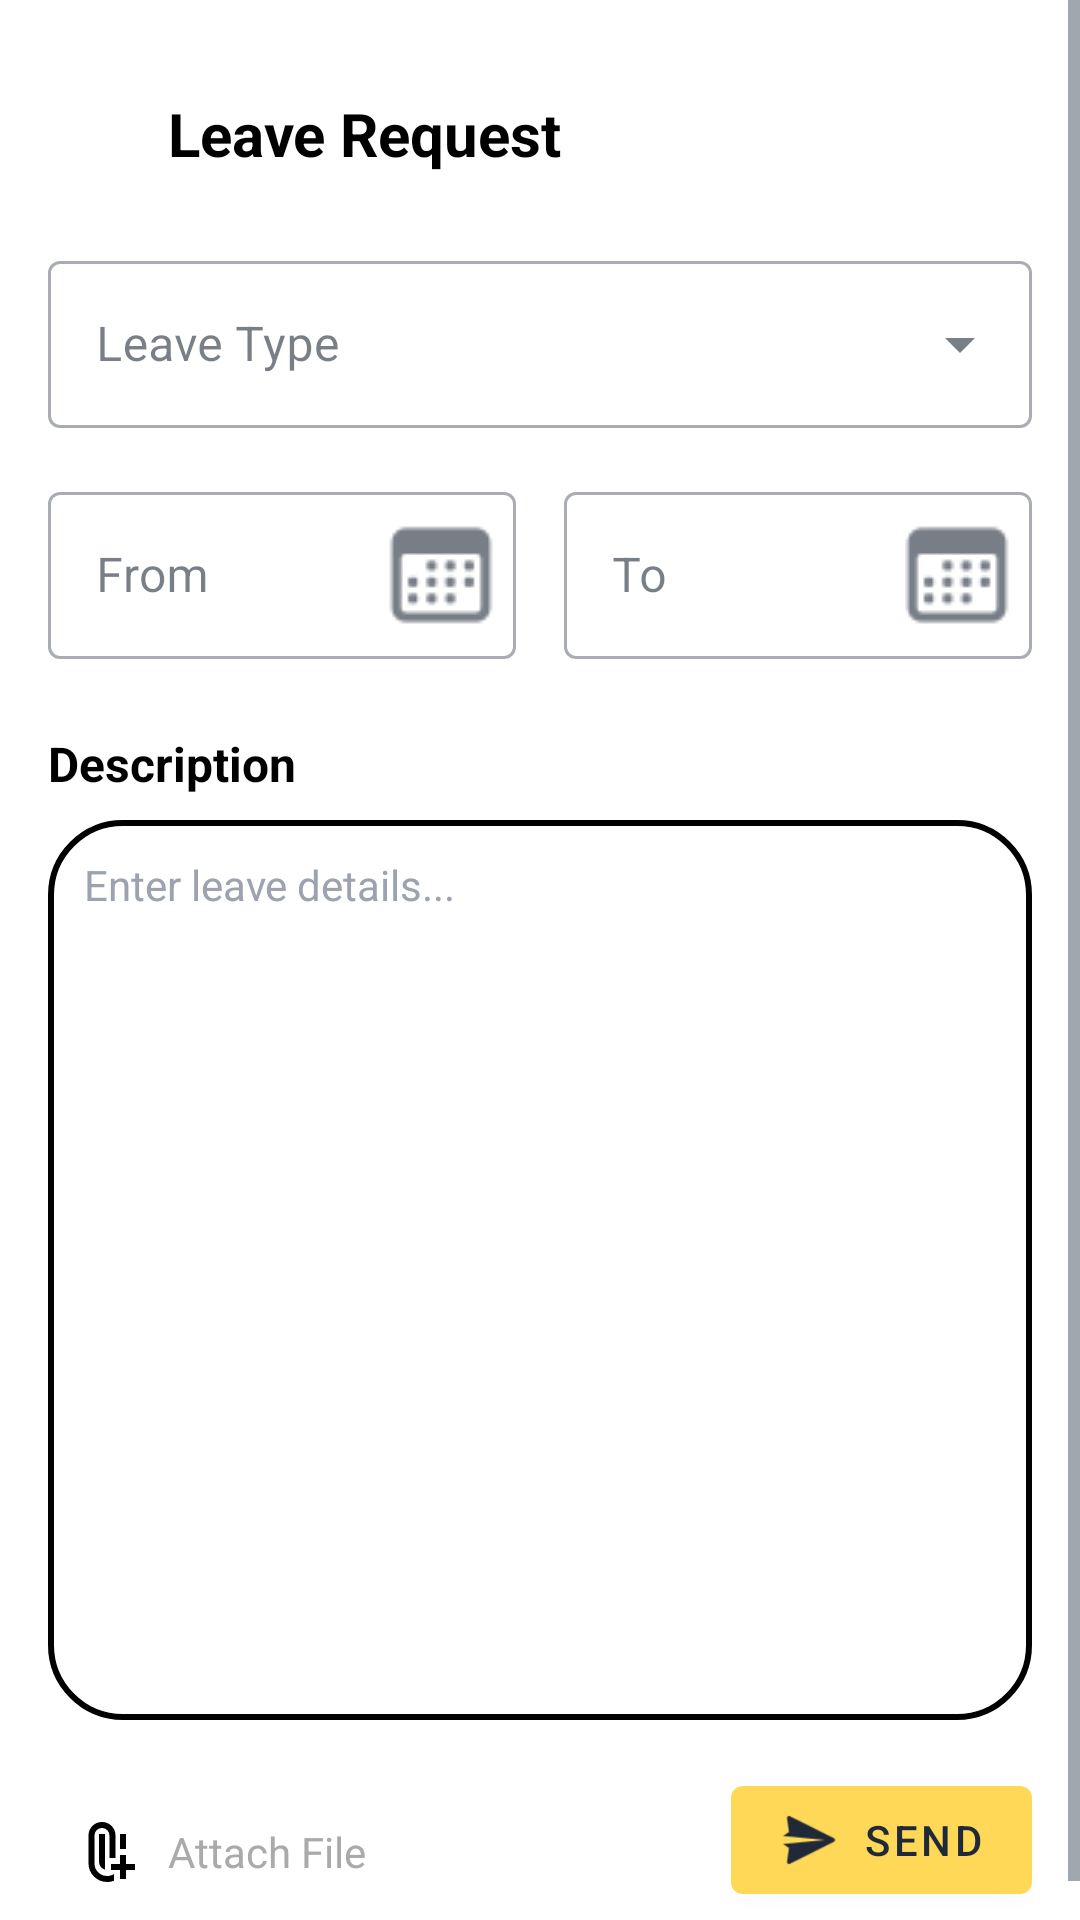

Where icons sit on this 1080px x 1920px app screen, as (x1, y1, x2, y2):
attachment: (88, 1822, 135, 1882)
